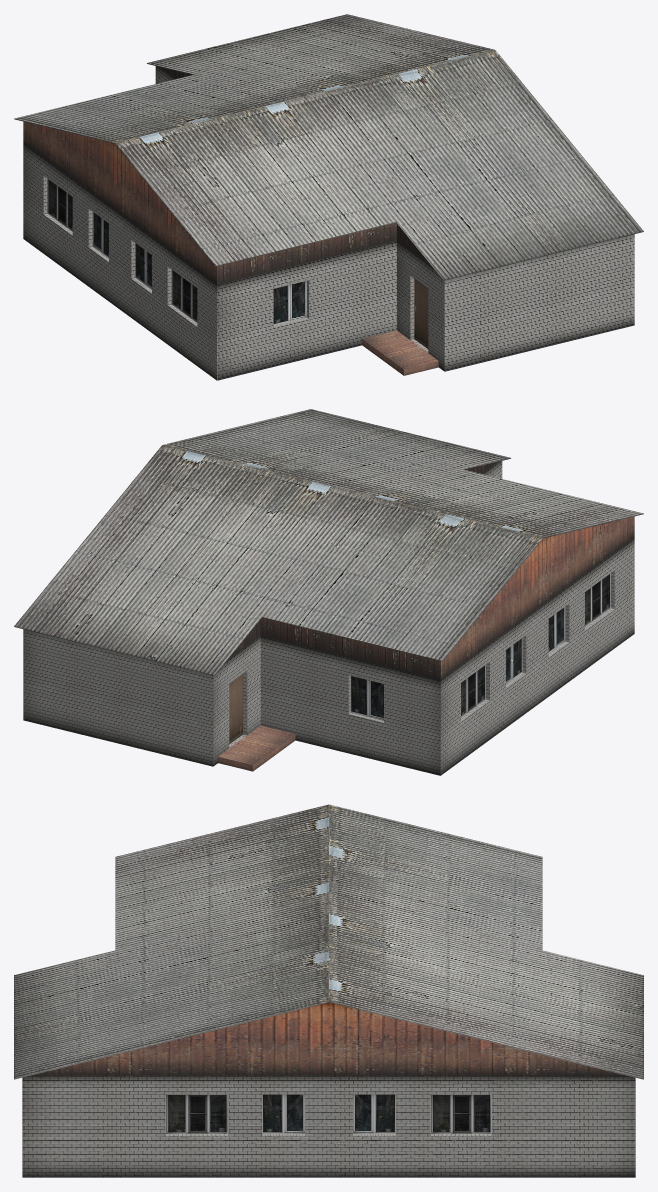
Rendered from ru_village_hut_2.obj.
3 views of the same model, one above another, from view 1: azimuth 30°, elevation 25°; view 2: azimuth 150°, elevation 25°; view 3: azimuth 270°, elevation 25° (orthographic). The views are drawn at different scales.
Visible parts, largest first — view 1: ru_village_hut_2; view 2: ru_village_hut_2; view 3: ru_village_hut_2.
Boxes of the visible parts, x1,y1,x2,y2 form: ru_village_hut_2: (14, 14, 643, 380); ru_village_hut_2: (14, 409, 643, 775); ru_village_hut_2: (14, 804, 643, 1177).
Size of the model in its own units: 10.17 by 4.3 by 13.73.
1 material, 1 textured.
